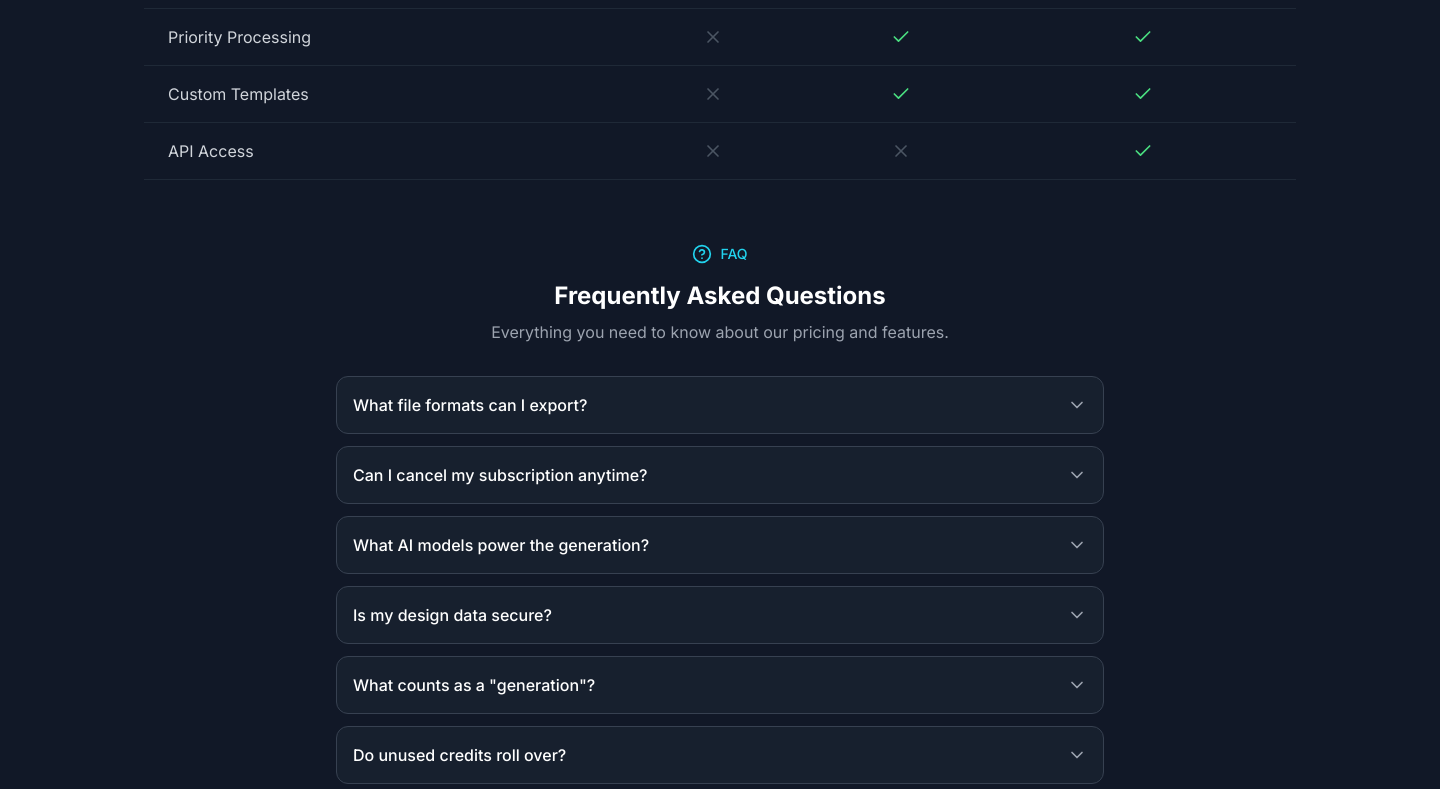
Scenario: PricingPage › FAQ Section › only shows one expanded FAQ at a time
(page scrolled)
Check: the text "What file formats can I export?" is shown, box [353,393,603,417]
# Open first FAQ
Click the button "What file formats can I export?" at (470, 405), box [337,377,1103,433]
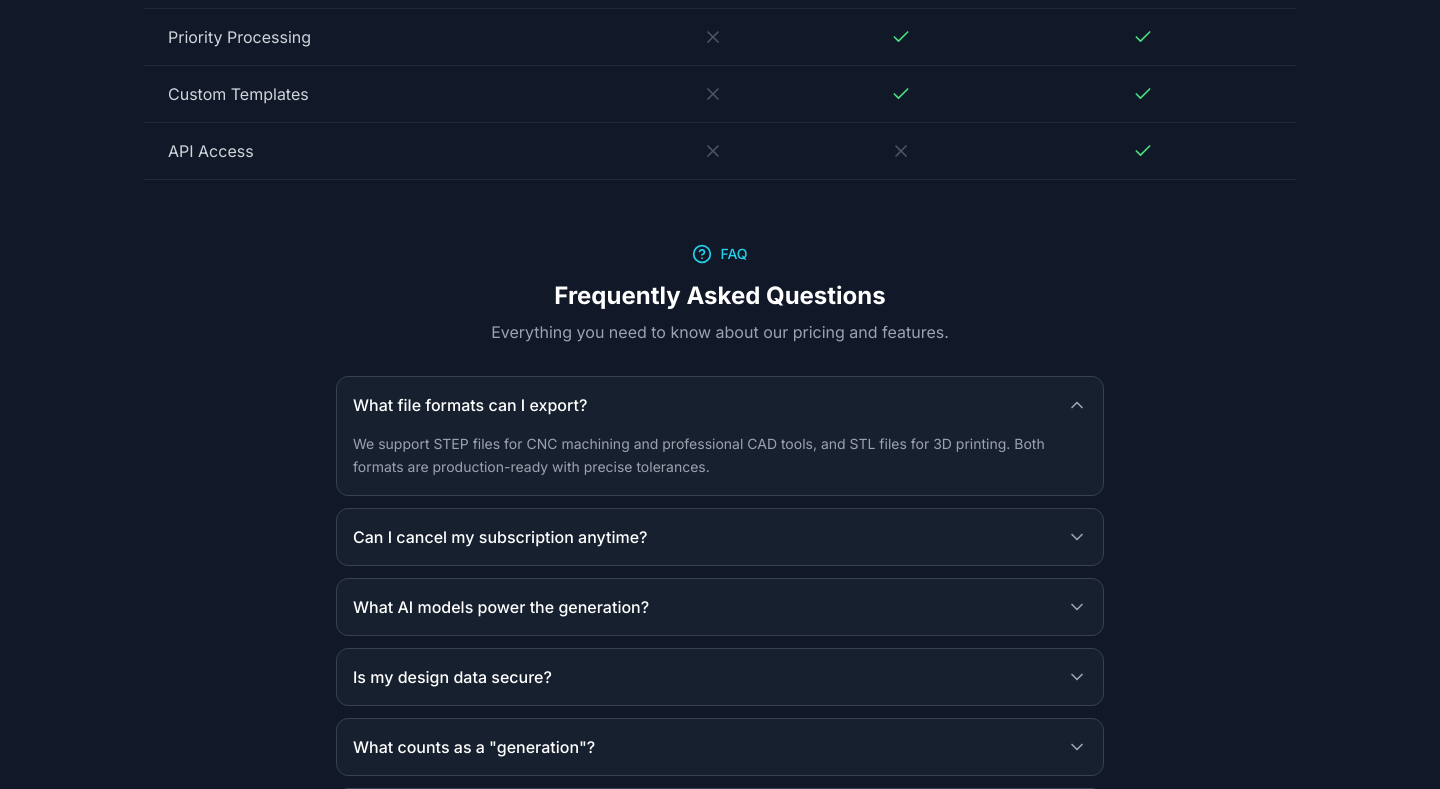
Check: the text "We support STEP files" is shown, box [353,435,1045,475]
# Open second FAQ - first should close
Click the button "Can I cancel my subscription anytime?" at (500, 536), box [337,508,1103,564]
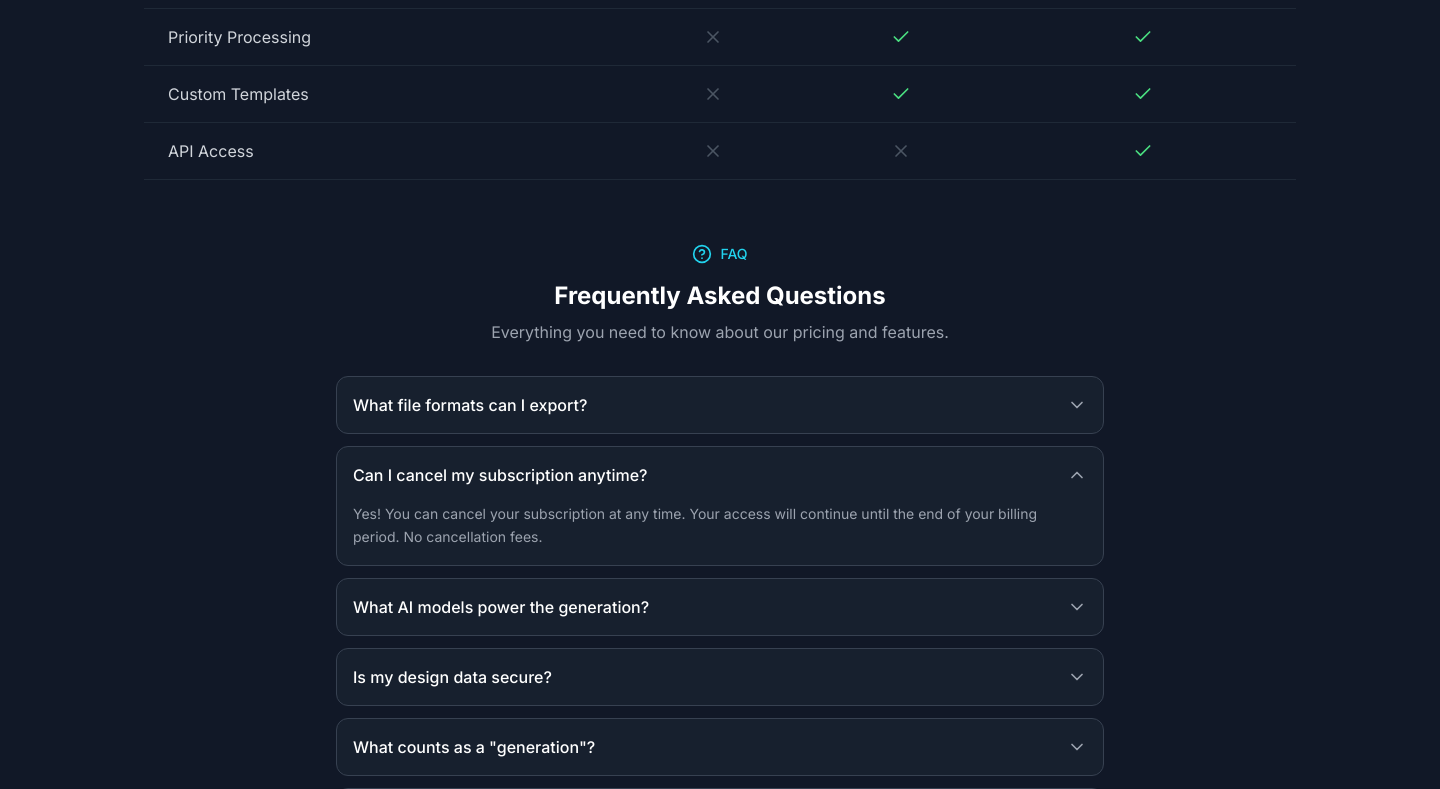
Check: the text "You can cancel your subscription at any time" is shown, box [353,505,1037,545]
Check: the text "We support STEP files" is gone
